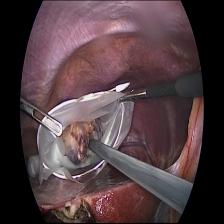Grasper: (14, 96, 65, 138), (113, 84, 152, 105)
Specimen Bag: (27, 80, 138, 193)
